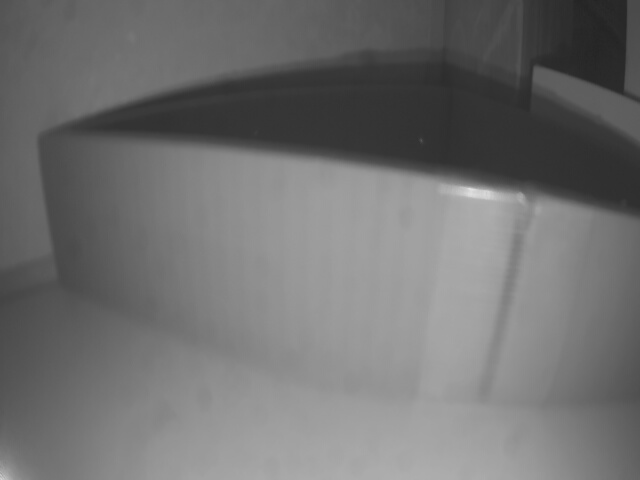Point: (39, 140, 640, 410)
